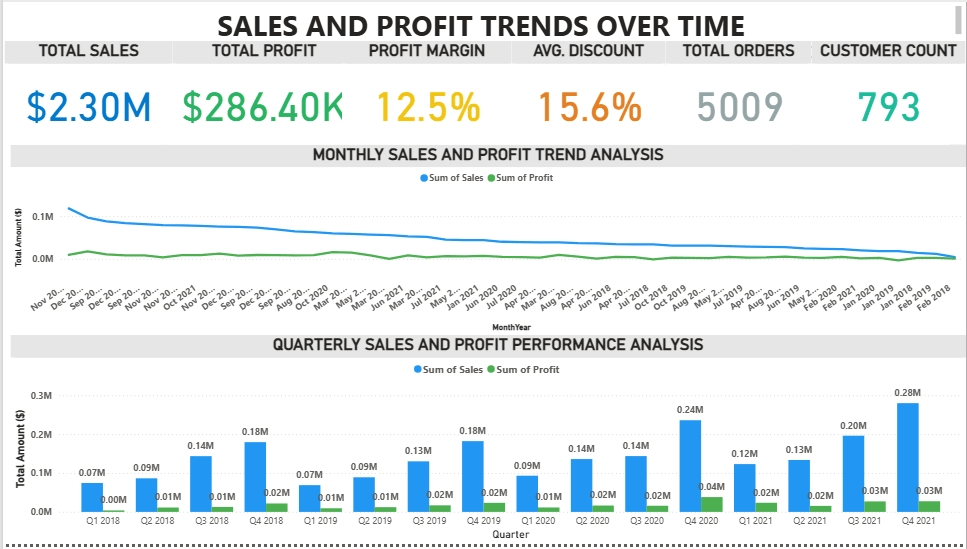

The dashboard page shown, as its layout file describes it:
{"tool":"powerbi","page":{"name":"Sales and Profit Trends Over Time","canvas":[1280,720],"ordinal":0},"visuals":[{"type":"lineChart","title":"MONTHLY SALES AND PROFIT TREND ANALYSIS","fields":{"Category":["Orders.MonthYear"],"Y":["Sum(Orders.Sales)","Sum(Orders.Profit)"]},"box":[9.4,189,1269.9,253.2],"z":0},{"type":"card","title":"TOTAL SALES","fields":{"Values":["Orders.Total Sales"]},"box":[9.4,52.9,198.4,136.1],"z":1000,"group":"g1"},{"type":"clusteredColumnChart","title":"QUARTERLY SALES AND PROFIT PERFORMANCE ANALYSIS","fields":{"Y":["Sum(Orders.Sales)","Sum(Orders.Profit)"],"Category":["Orders.Quarter"]},"box":[9.4,442.2,1269.9,277.8],"z":1000},{"type":"textbox","box":[0,0,1278.8,53],"z":2000},{"type":"card","title":"TOTAL SALES","fields":{"Values":["Orders.Total Sales"]},"box":[1,52,224,136],"z":2000,"group":"g2"},{"type":"card","title":"TOTAL PROFIT","fields":{"Values":["Orders.Total Profit"]},"box":[207.8,52.9,240,136.1],"z":2000,"group":"g1"},{"type":"group","id":"g1","title":"Group 1","box":[9.4,52.9,1249.1,136.1],"z":3000},{"type":"card","title":"PROFIT MARGIN","fields":{"Values":["Orders.Profit Margin"]},"box":[447.8,52.9,221.1,136.1],"z":3000,"group":"g1"},{"type":"group","id":"g2","title":"Group 1","box":[1,52,1278,136],"z":4000},{"type":"card","title":"TOTAL PROFIT","fields":{"Values":["Orders.Total Profit"]},"box":[225,52,244,136],"z":4000,"group":"g2"},{"type":"card","title":"AVG. DISCOUNT","fields":{"Values":["Orders.Average Discount"]},"box":[668.9,52.9,200.3,136.1],"z":4000,"group":"g1"},{"type":"card","title":"TOTAL ORDERS","fields":{"Values":["Orders.Total Orders"]},"box":[869.2,52.9,189,136.1],"z":5500,"group":"g1"},{"type":"card","title":"CUSTOMER COUNT","fields":{"Values":["Orders.Customer Count"]},"box":[1058.2,52.9,200.3,136.1],"z":5750,"group":"g1"},{"type":"card","title":"PROFIT MARGIN","fields":{"Values":["Orders.Profit Margin"]},"box":[449.6,52,226.2,136],"z":6000,"group":"g2"},{"type":"card","title":"AVG. DISCOUNT","fields":{"Values":["Orders.Average Discount"]},"box":[675.8,52,204.9,136],"z":7000,"group":"g2"},{"type":"card","title":"TOTAL ORDERS","fields":{"Values":["Orders.Total Orders"]},"box":[880.7,52,193.3,136],"z":8000,"group":"g2"},{"type":"card","title":"CUSTOMER COUNT","fields":{"Values":["Orders.Customer Count"]},"box":[1074.1,52,204.9,136],"z":9000,"group":"g2"}]}

Visuals, with their boxes in screenshot pixels (x1, y1, x2, y2), scaled from the page's 1280x720 canvas onto the 967x549 screenshot:
"MONTHLY SALES AND PROFIT TREND ANALYSIS" lineChart: box=[7, 144, 966, 337]
"TOTAL SALES" card: box=[7, 40, 157, 144]
"QUARTERLY SALES AND PROFIT PERFORMANCE ANALYSIS" clusteredColumnChart: box=[7, 337, 966, 548]
textbox: box=[0, 0, 966, 40]
"TOTAL SALES" card: box=[1, 40, 170, 143]
"TOTAL PROFIT" card: box=[157, 40, 338, 144]
"Group 1" group: box=[7, 40, 951, 144]
"PROFIT MARGIN" card: box=[338, 40, 505, 144]
"Group 1" group: box=[1, 40, 966, 143]
"TOTAL PROFIT" card: box=[170, 40, 354, 143]
"AVG. DISCOUNT" card: box=[505, 40, 657, 144]
"TOTAL ORDERS" card: box=[657, 40, 799, 144]
"CUSTOMER COUNT" card: box=[799, 40, 951, 144]
"PROFIT MARGIN" card: box=[340, 40, 511, 143]
"AVG. DISCOUNT" card: box=[511, 40, 665, 143]
"TOTAL ORDERS" card: box=[665, 40, 811, 143]
"CUSTOMER COUNT" card: box=[811, 40, 966, 143]
